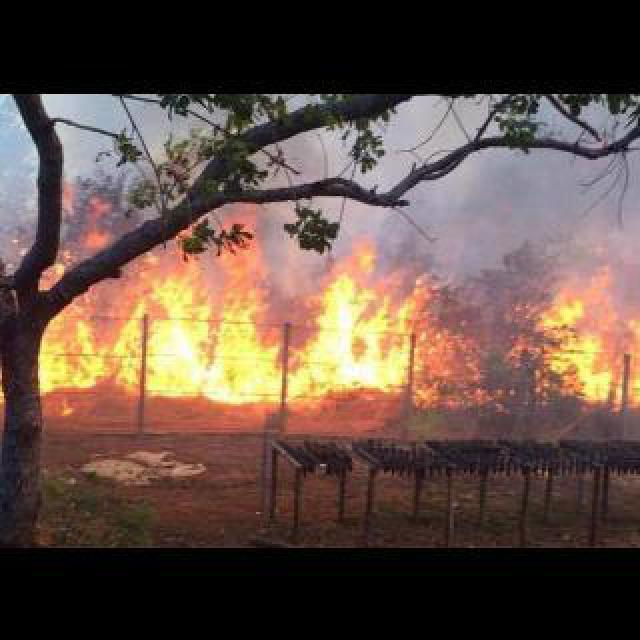Fire: (54, 214, 488, 418), (518, 262, 636, 408)
